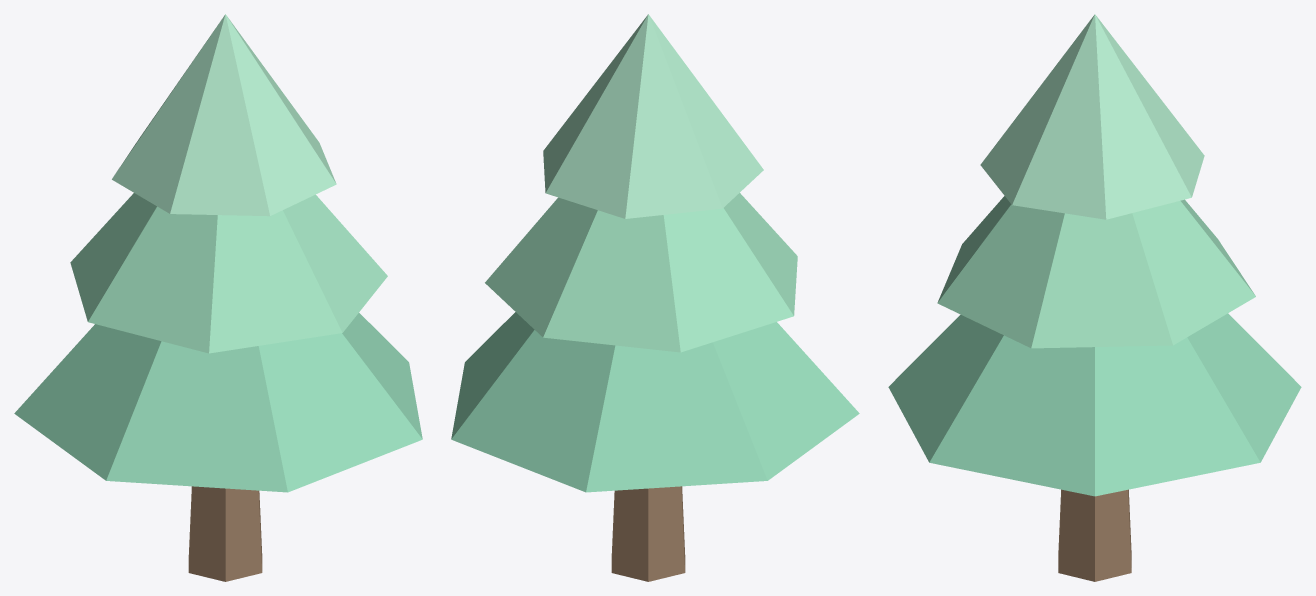
The picture shows the model from 3 angles, left to right: view 1: azimuth 30°, elevation 25°; view 2: azimuth 150°, elevation 25°; view 3: azimuth 270°, elevation 25°; orthographic projection.
Parts seen in each view (by area): view 1: Foliage1, Foliage2, Foliage3, Trunk; view 2: Foliage1, Foliage2, Foliage3, Trunk; view 3: Foliage1, Foliage2, Foliage3, Trunk.
Part boxes in pixels (box(x1,y1,x2,y2)): Foliage1: box(14, 313, 422, 492); Foliage2: box(70, 193, 387, 353); Foliage3: box(112, 14, 336, 216); Trunk: box(188, 486, 262, 581); Foliage1: box(451, 312, 859, 492); Foliage2: box(485, 193, 797, 352); Foliage3: box(543, 14, 763, 218); Trunk: box(611, 486, 685, 581); Foliage1: box(888, 313, 1301, 496); Foliage2: box(937, 196, 1255, 348); Foliage3: box(980, 14, 1204, 219); Trunk: box(1058, 489, 1131, 581).
Bounding box in the file's own units: 2.09 × 3.15 × 2.14.
